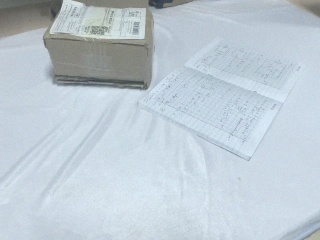box: (43, 2, 154, 91)
